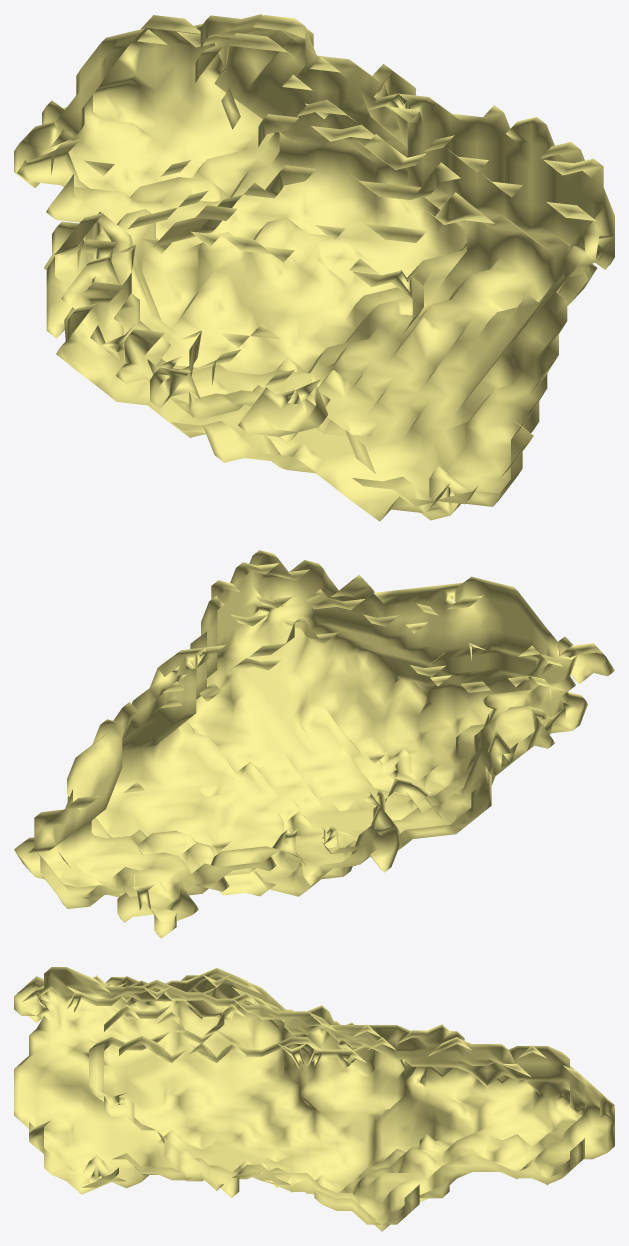
File: osteocyte_22.glb
The picture shows the model from 3 angles, top to bottom: view 1: azimuth 30°, elevation 25°; view 2: azimuth 150°, elevation 25°; view 3: azimuth 270°, elevation 25°; orthographic projection. The views are drawn at different scales.
Parts seen in each view (by area): view 1: osteocyte_22; view 2: osteocyte_22; view 3: osteocyte_22.
Part boxes in pixels (x1,y1,x2,y2): osteocyte_22: (14, 14, 614, 521); osteocyte_22: (14, 550, 614, 938); osteocyte_22: (14, 967, 614, 1231).
Bounding box in the file's own units: 12.52 × 6.74 × 19.26.
